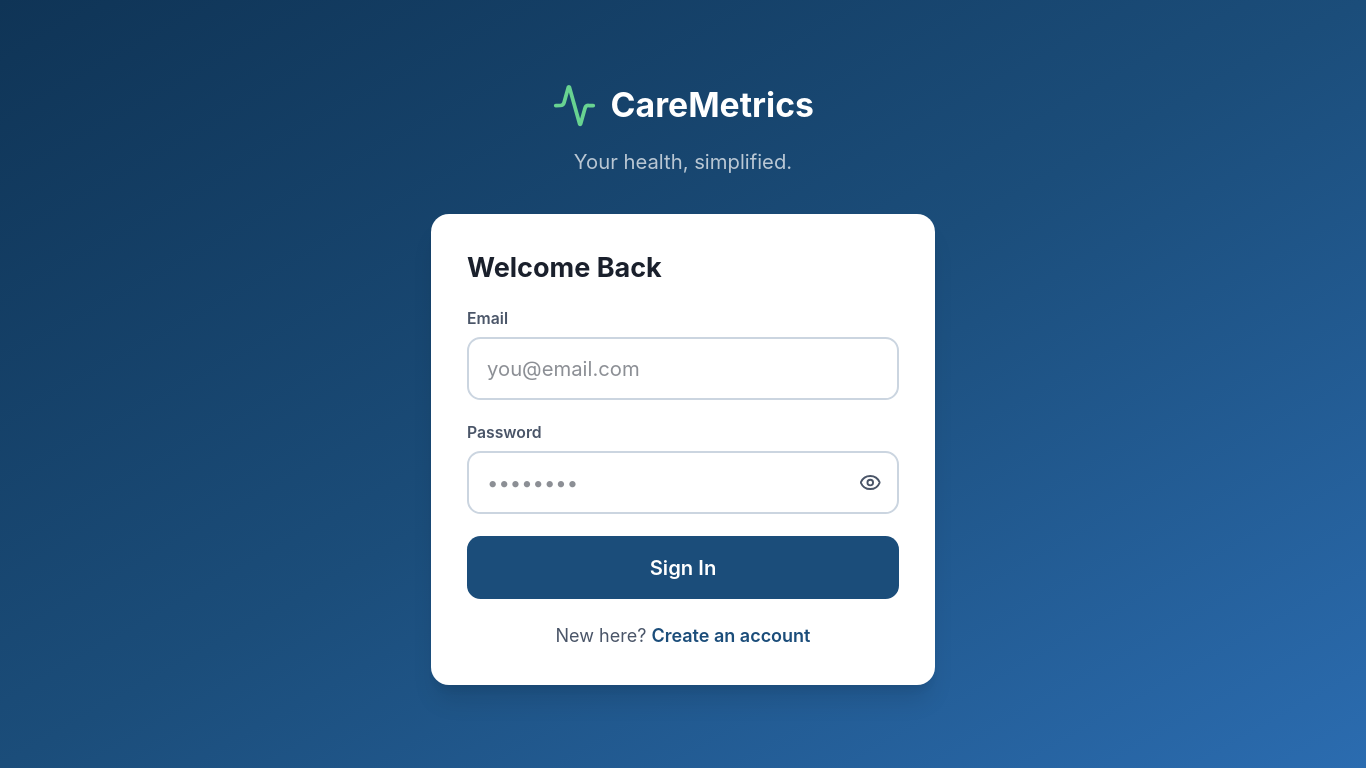
Test: Login page › shows error for invalid credentials
This screenshot has width=1366, height=768.
Type "wrong@test.com" into the field with placeholder "you@email.com" at coordinates (683, 368), box [467,337,899,400]
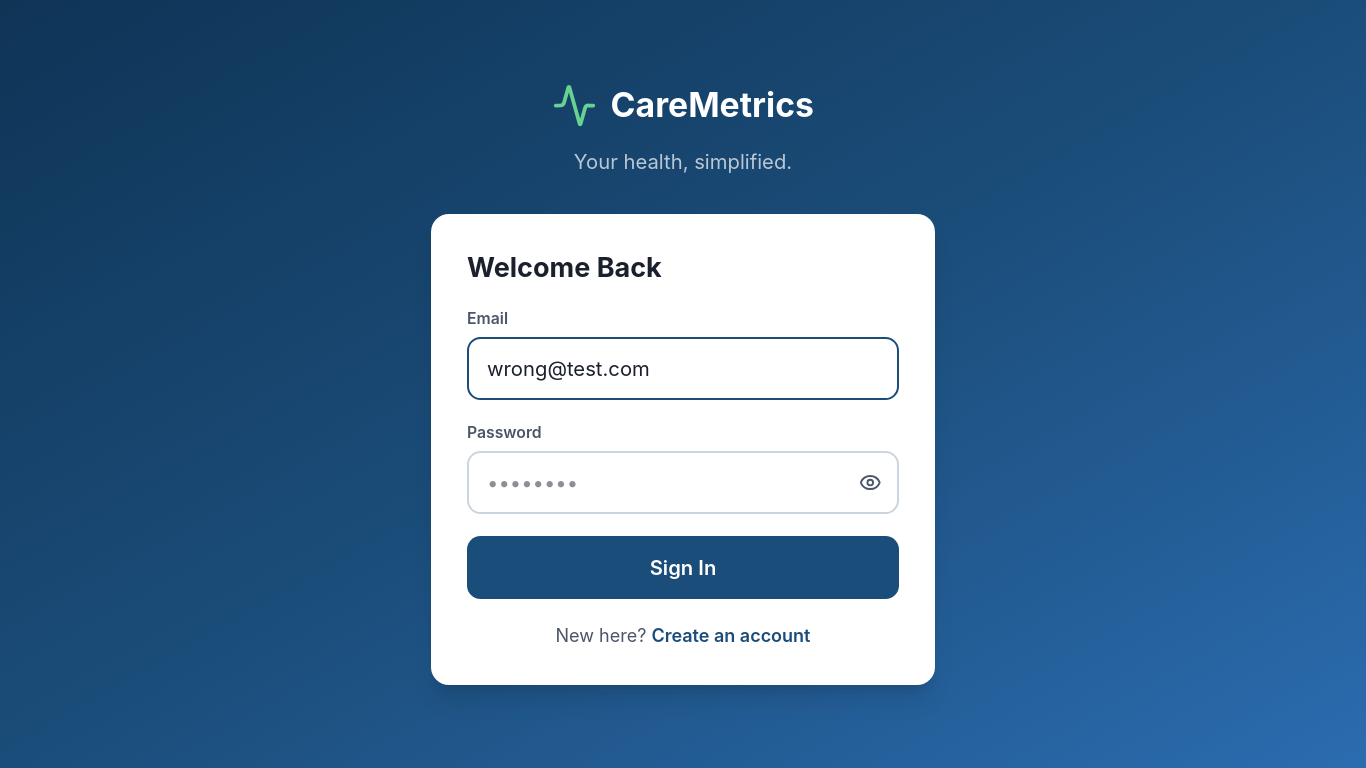
Type "wrong" into the password field with placeholder "••••••••" at coordinates (683, 483), box [467,452,899,514]
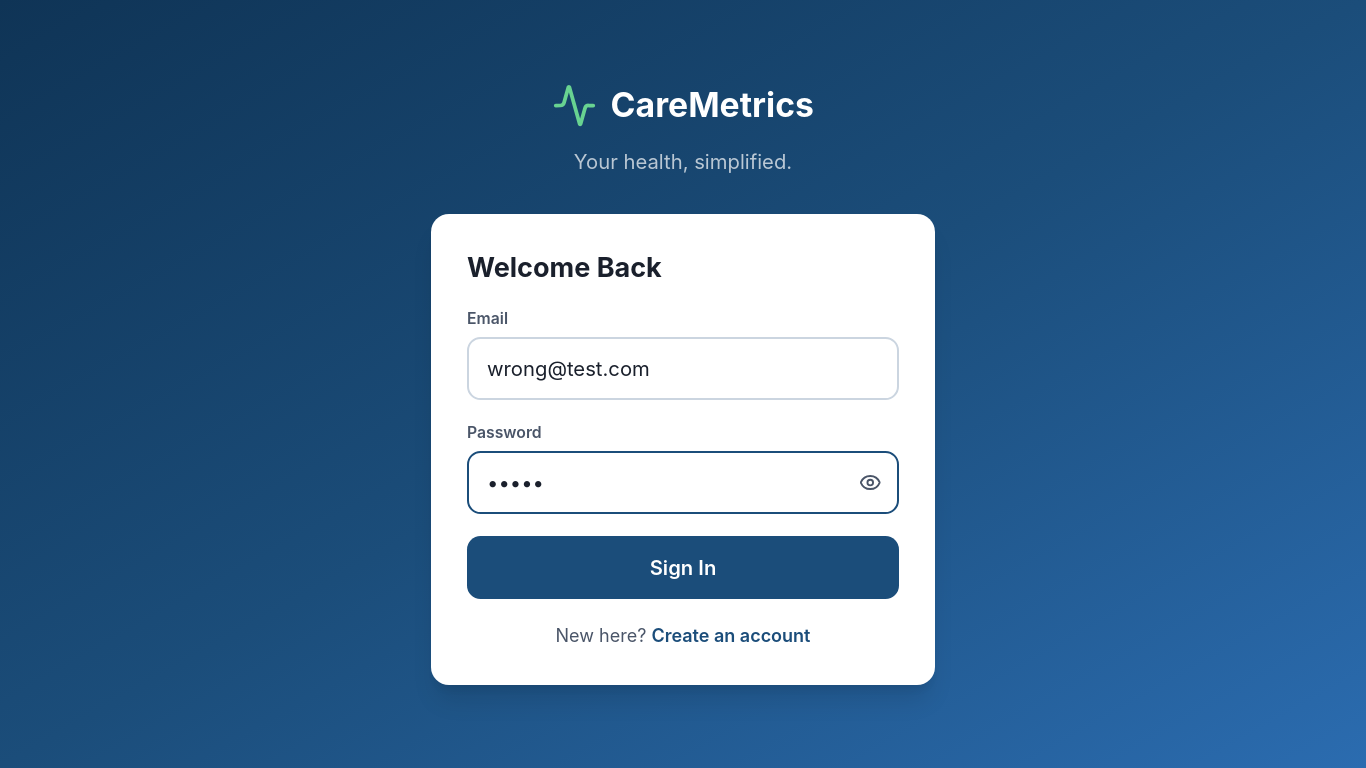
Click the button "Sign In" at coordinates (683, 568), box [467,536,899,600]
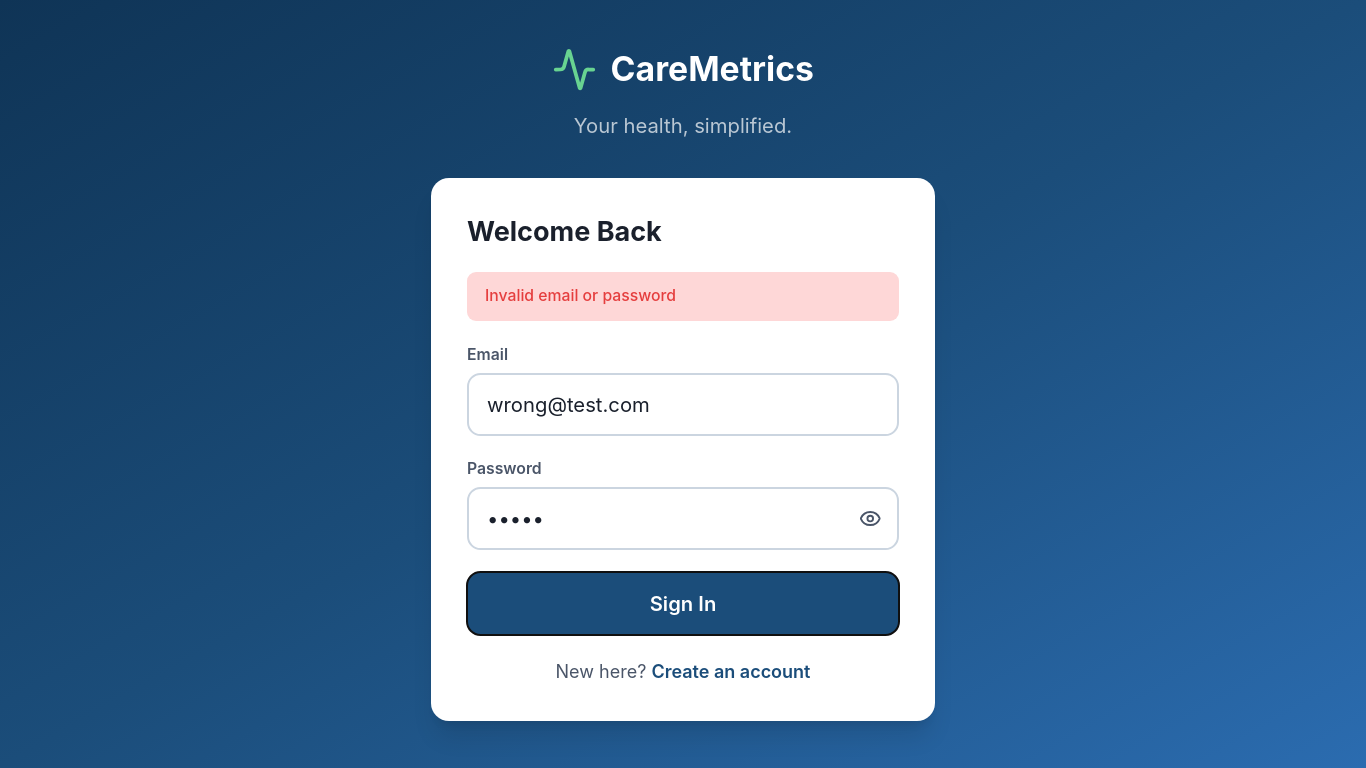
expect the text "Invalid email or password" is shown: met, box [467,272,899,322]
